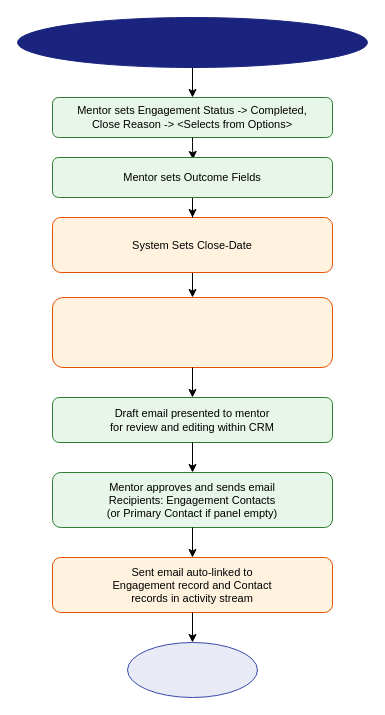
This 385x715 diagram has some shape labels left out. The centre of each missing label's shape, as x and y in pixels:
4.10 — Engagement Close: the point at 192,42
System generates draft Thank You email populated from Session record: the point at 192,332
Thank You Email Sent: the point at 192,670
